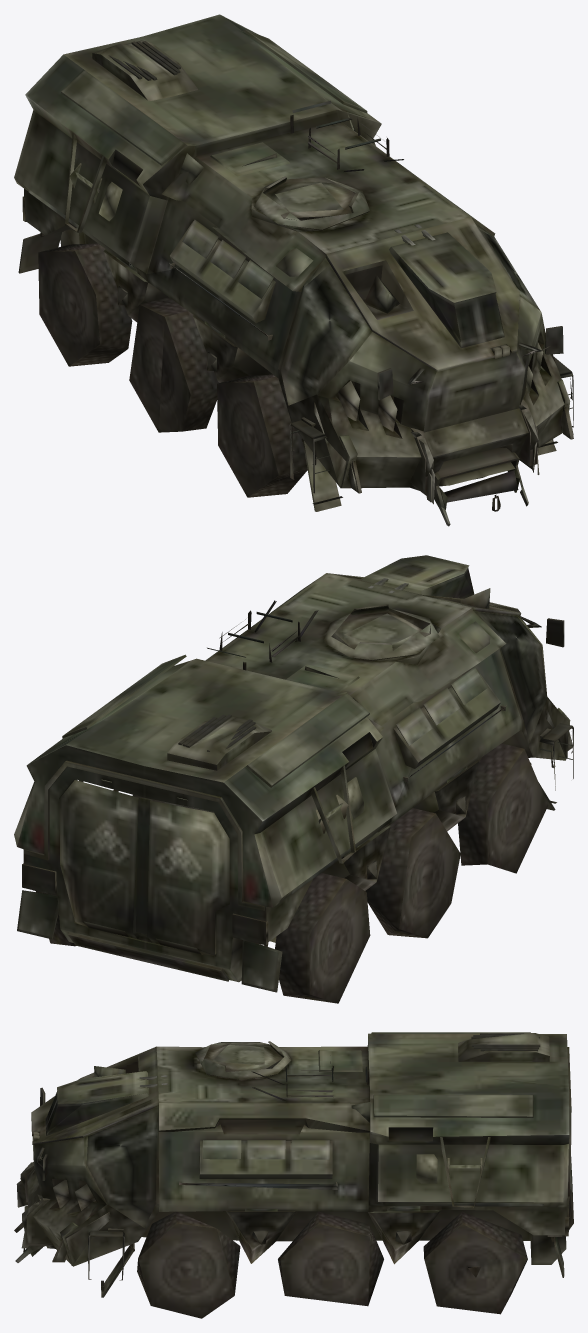
Rendered from ArmoredVehicles.glb.
3 views of the same model, one above another, from view 1: azimuth 30°, elevation 25°; view 2: azimuth 150°, elevation 25°; view 3: azimuth 270°, elevation 25° (orthographic). The views are drawn at different scales.
Visible parts, largest first — view 1: ArmoredVehicles; view 2: ArmoredVehicles; view 3: ArmoredVehicles.
Boxes of the visible parts, x1,y1,x2,y2 form: ArmoredVehicles: (14,14,573,526); ArmoredVehicles: (14,555,573,1003); ArmoredVehicles: (14,1032,573,1318).
Size of the model in its own units: 0.0136 by 0.0127 by 0.0297.
1 material, 1 textured.
